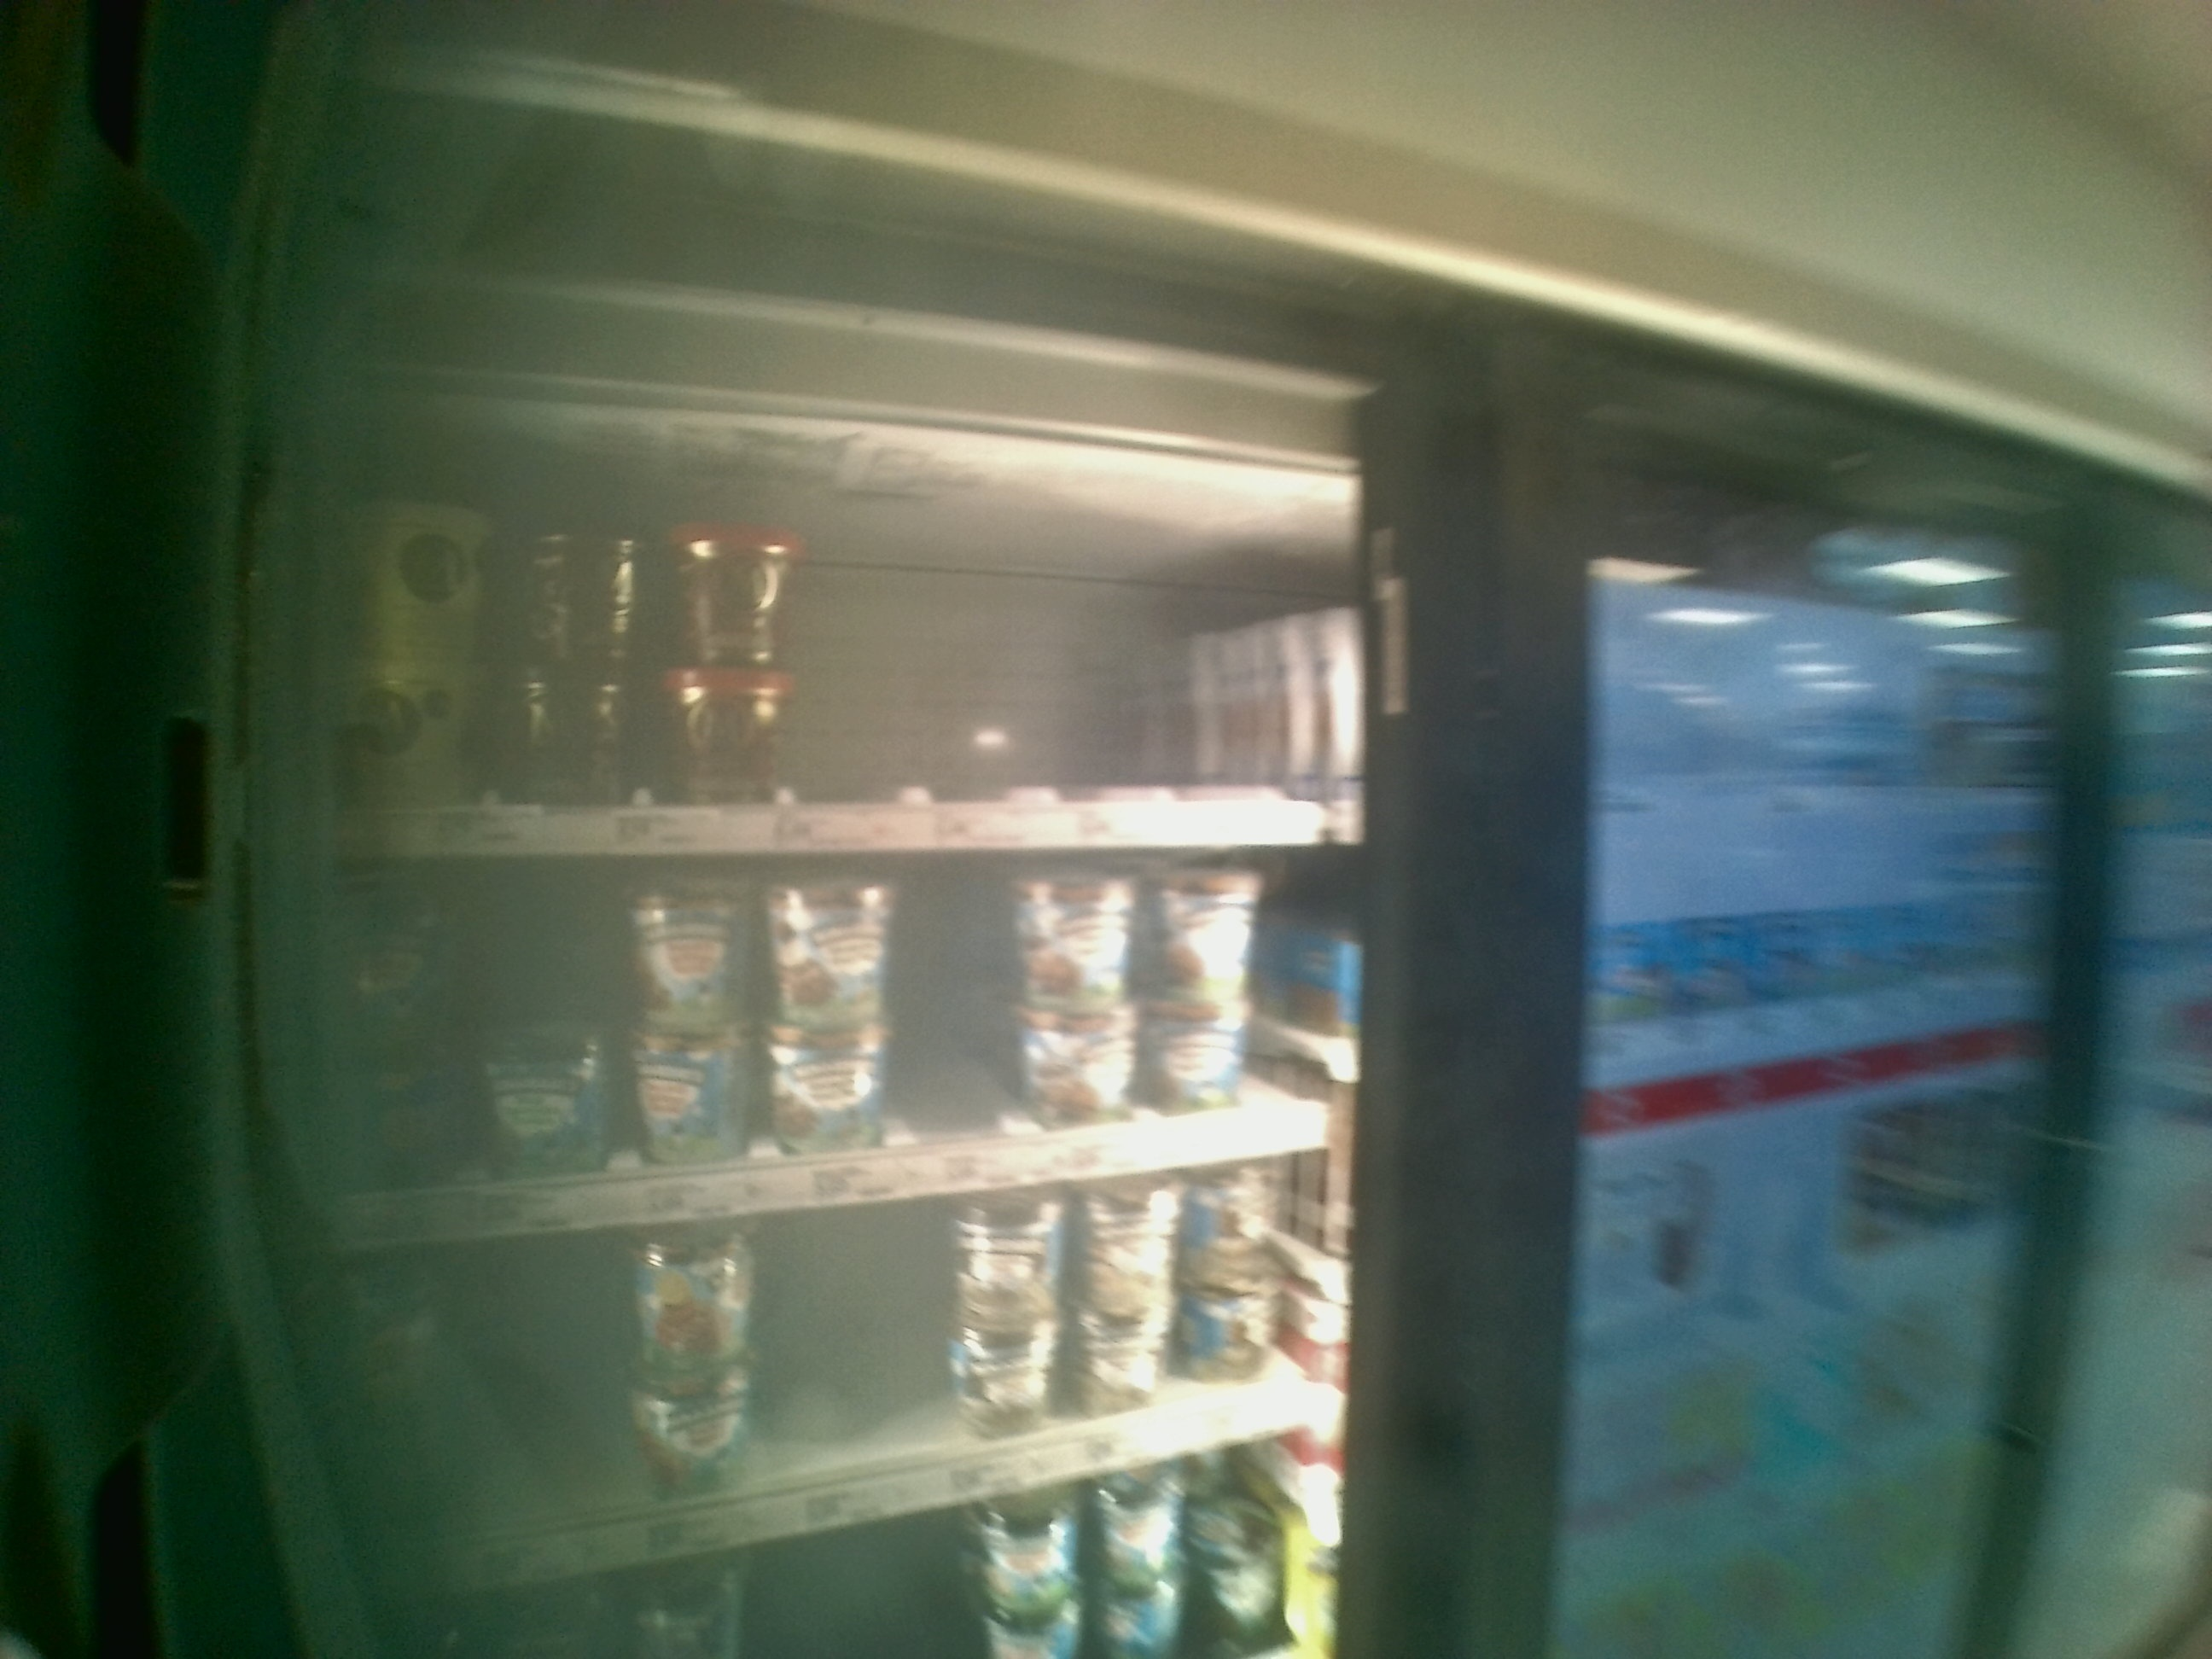shelf: (320, 390, 1371, 849), (308, 854, 1383, 1248)
